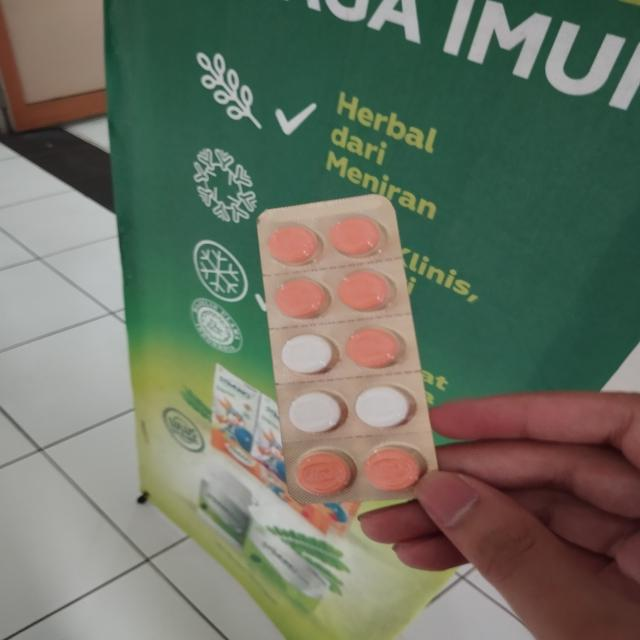B3: (255, 193, 445, 504)
